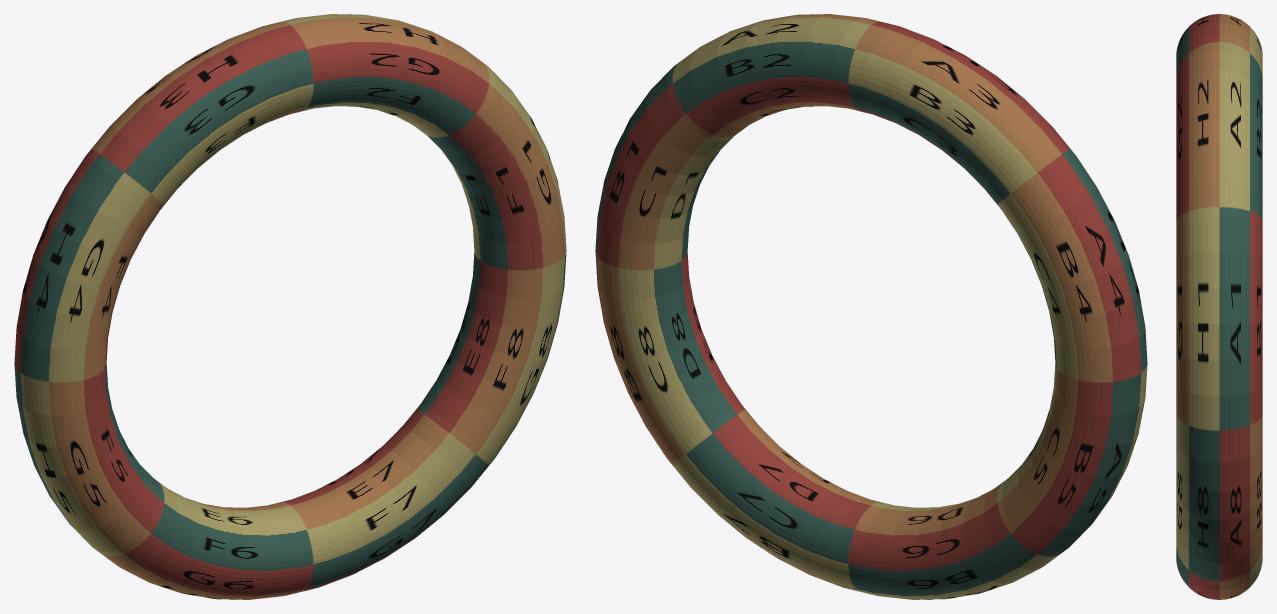
The model's file is texture_torus_R23_r9.glb.
3 views of the same model, side by side, from view 1: azimuth 30°, elevation 25°; view 2: azimuth 150°, elevation 25°; view 3: azimuth 270°, elevation 25° (orthographic). The views are drawn at different scales.
Parts seen in each view (by area): view 1: world; view 2: world; view 3: world.
Boxes of the visible parts, x1=… form: world: x1=14, y1=14, x2=566, y2=599; world: x1=595, y1=14, x2=1147, y2=599; world: x1=1176, y1=14, x2=1262, y2=599.
Size of the model in its own units: 29.73 by 29.67 by 4.39.
Materials: 1 (1 with a texture image).
